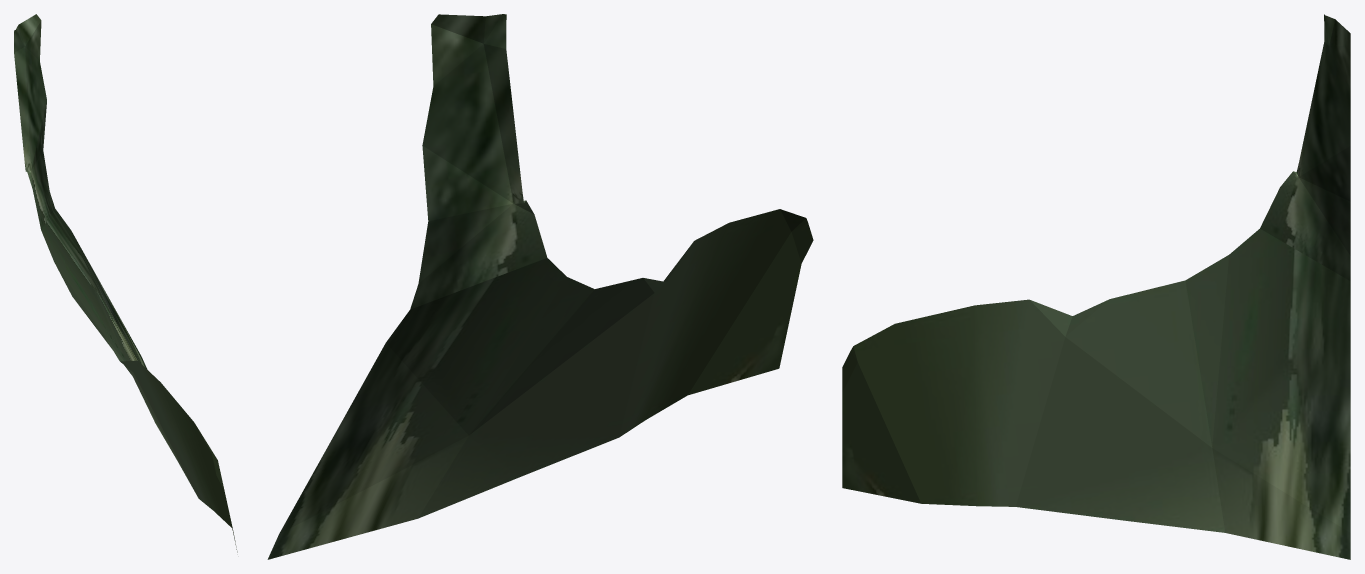
3 renders of one model, left to right at view 1: azimuth 30°, elevation 25°; view 2: azimuth 150°, elevation 25°; view 3: azimuth 270°, elevation 25°, orthographic. The views are drawn at different scales.
Size of the model in its own units: 1.17 by 2.95 by 2.95.
1 material, 1 textured.
